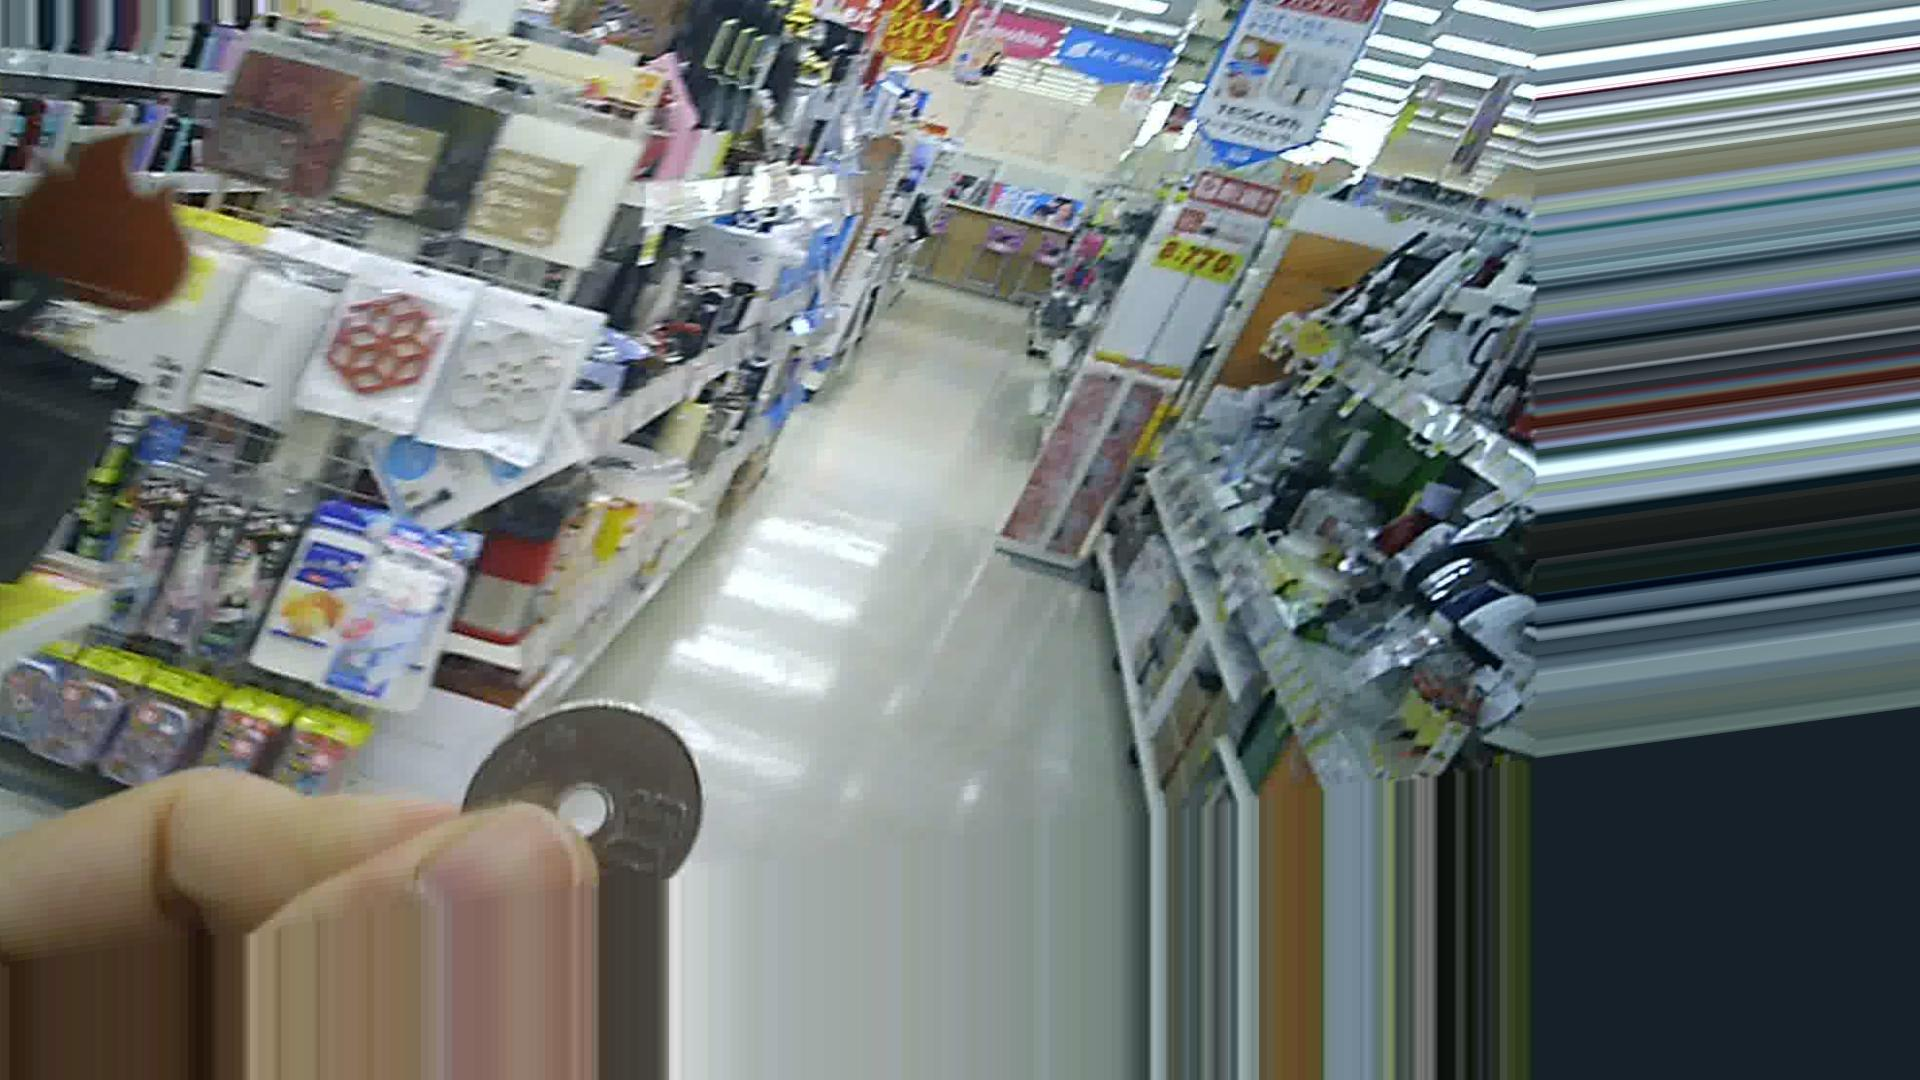50 Yen: (458, 711, 705, 865)
